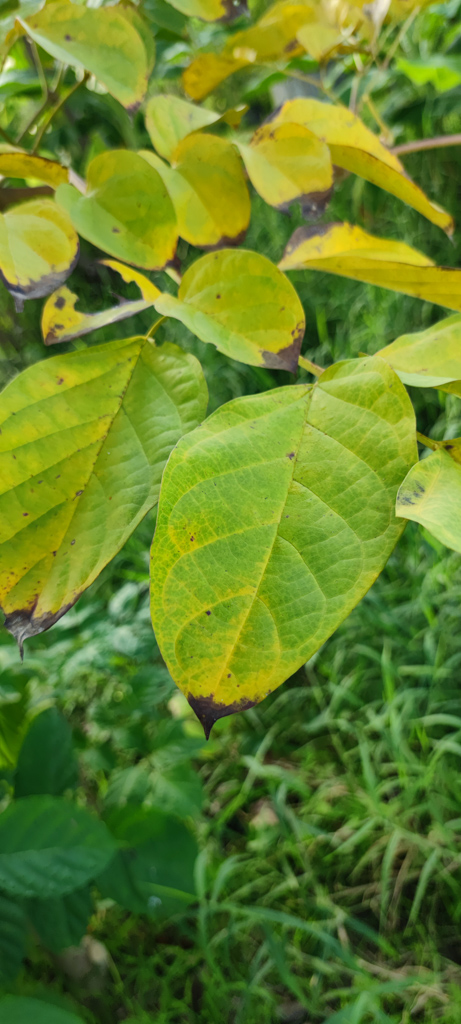Pepper yellow leaf: (14, 349, 140, 718), (233, 87, 455, 241), (159, 598, 291, 762), (294, 219, 460, 288)
